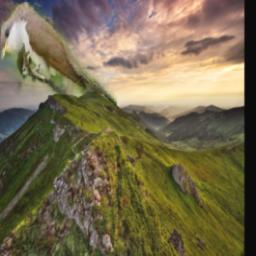Cuckoo: (1, 3, 117, 106)
